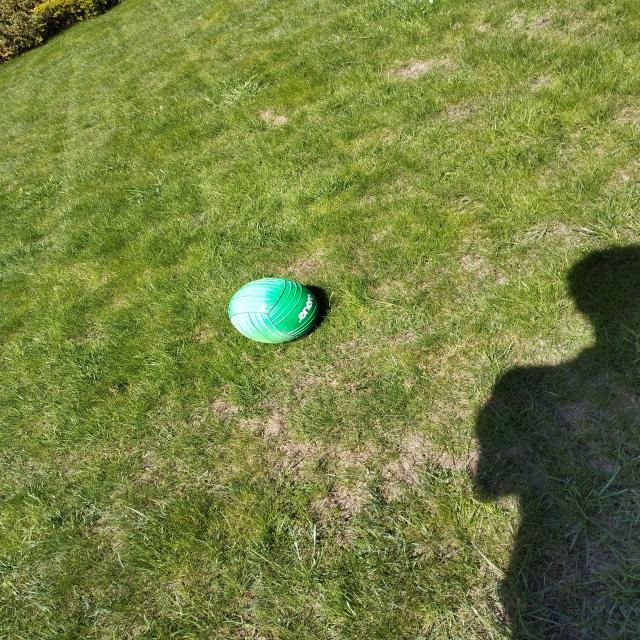zielona: (228, 277, 320, 342)
